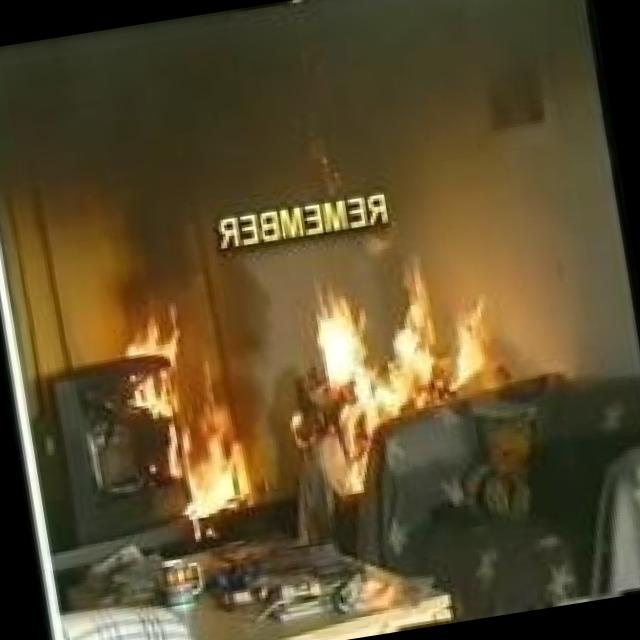fire: (90, 197, 528, 558)
